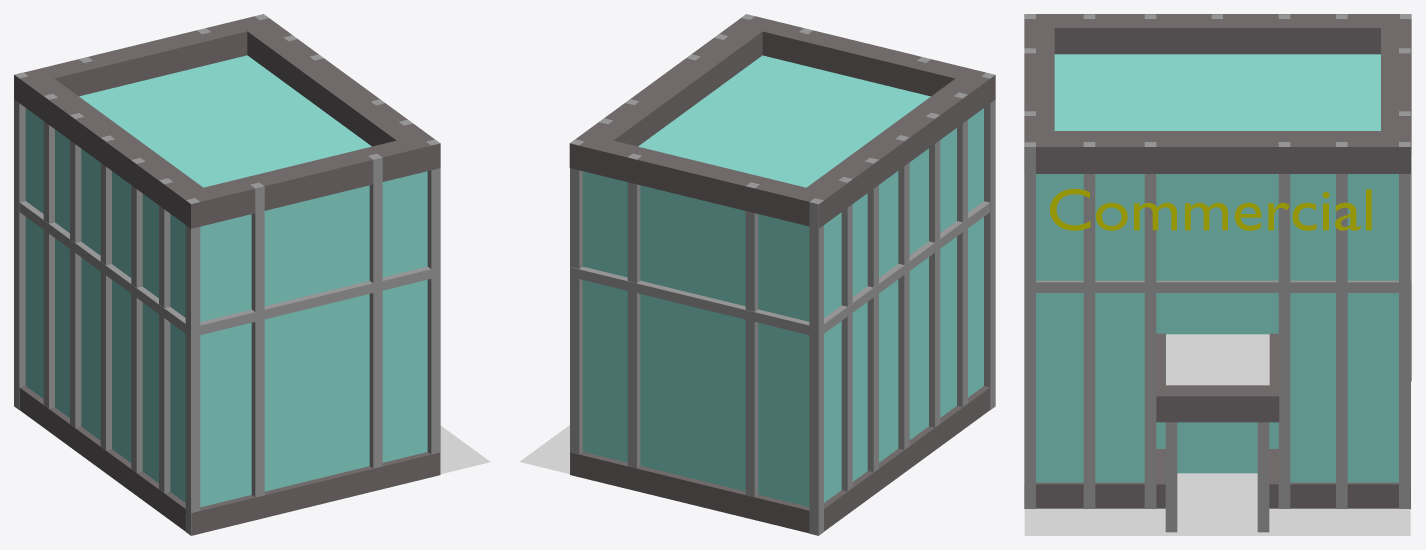
Rendered from CommercialCenter.fbx.
3 renders of one model, left to right at view 1: azimuth 30°, elevation 25°; view 2: azimuth 150°, elevation 25°; view 3: azimuth 270°, elevation 25°, orthographic. The views are drawn at different scales.
Parts seen in each view (by area): view 1: Cube, Cube.001, Cube.002, Cube.007, Cube.019, Cube.020, Cube.009, Cube.008, Cube.025, Cube.027, Cube.024, Cube.023 (+4 smaller); view 2: Cube, Cube.001, Cube.002, Cube.008, Cube.021, Cube.022, Cube.006, Cube.007, Cube.024, Cube.027, Cube.023, Cube.025 (+4 smaller); view 3: Cube, Cube.001, Plane, Cube.002, Cube.003, Cube.004, Cube.009, Cube.013, Cube.010, Cube.011, Text, Cube.014 (+5 smaller).
Part boxes in pixels (bbox=[...]): Cube: bbox=[25, 55, 427, 507]; Cube.001: bbox=[14, 14, 440, 228]; Cube.002: bbox=[19, 386, 439, 535]; Cube.007: bbox=[185, 198, 200, 535]; Cube.019: bbox=[368, 153, 382, 468]; Cube.020: bbox=[250, 182, 264, 497]; Cube.009: bbox=[426, 139, 440, 474]; Cube.008: bbox=[14, 72, 28, 409]; Cube.025: bbox=[43, 93, 57, 408]; Cube.027: bbox=[100, 135, 114, 450]; Cube.024: bbox=[131, 157, 145, 472]; Cube.023: bbox=[70, 113, 83, 427]; Cube: bbox=[582, 55, 983, 506]; Cube.001: bbox=[569, 16, 995, 228]; Cube.002: bbox=[570, 386, 989, 533]; Cube.008: bbox=[809, 198, 823, 535]; Cube.021: bbox=[627, 153, 641, 468]; Cube.022: bbox=[745, 182, 759, 497]; Cube.006: bbox=[570, 139, 584, 474]; Cube.007: bbox=[981, 72, 995, 410]; Cube.024: bbox=[926, 112, 940, 427]; Cube.027: bbox=[895, 135, 909, 449]; Cube.023: bbox=[865, 157, 878, 472]; Cube.025: bbox=[838, 176, 852, 491]; Cube: bbox=[1036, 54, 1398, 482]; Cube.001: bbox=[1024, 14, 1410, 173]; Plane: bbox=[1024, 473, 1410, 535]; Cube.002: bbox=[1024, 357, 1410, 508]; Cube.003: bbox=[1156, 333, 1279, 422]; Cube.004: bbox=[1166, 334, 1269, 385]; Cube.009: bbox=[1024, 142, 1035, 508]; Cube.013: bbox=[1083, 142, 1095, 508]; Cube.010: bbox=[1278, 142, 1290, 508]; Cube.011: bbox=[1144, 142, 1156, 508]; Text: bbox=[1050, 188, 1371, 230]; Cube.014: bbox=[1036, 280, 1410, 292].
Size of the model in its own units: 204 by 216 by 209.
